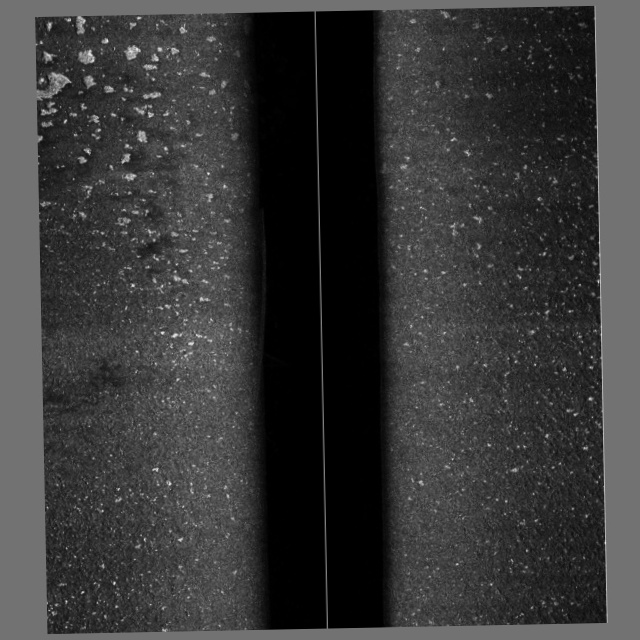Shipwreck: (255, 206, 286, 367)
